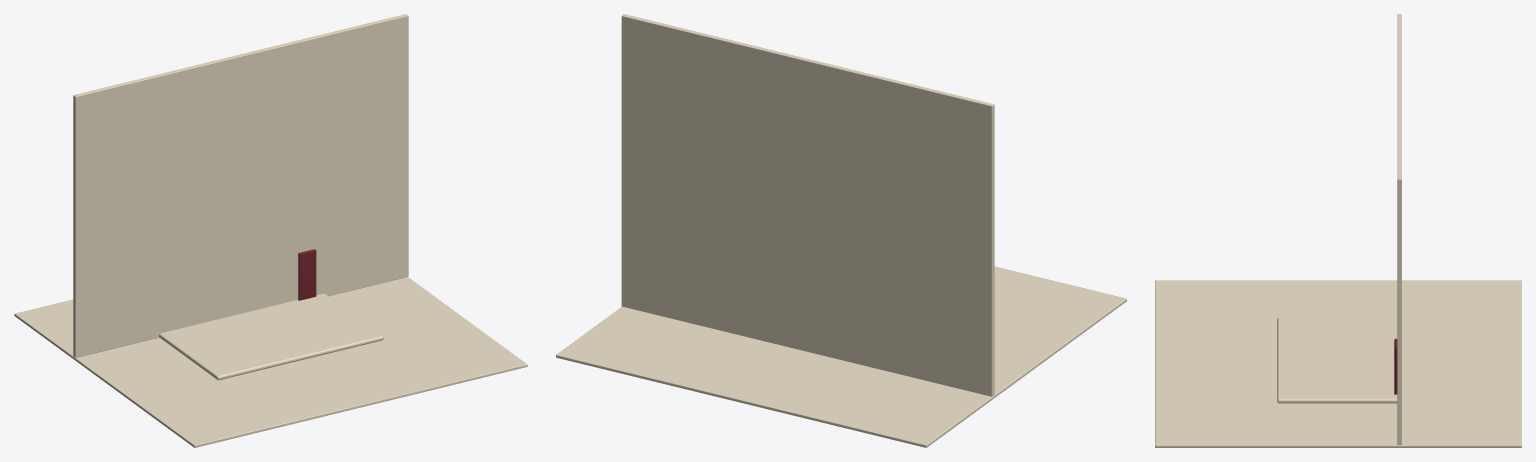
File: market-background.glb
3 renders of one model, left to right at view 1: azimuth 30°, elevation 25°; view 2: azimuth 150°, elevation 25°; view 3: azimuth 270°, elevation 25°, orthographic. The views are drawn at different scales.
Parts seen in each view (by area): view 1: Background wall, Seamless floor, Ivory tabletop, Distant oxblood relief; view 2: Background wall, Seamless floor; view 3: Seamless floor, Ivory tabletop, Background wall.
Part boxes in pixels (bbox=[...]): Background wall: bbox=[73, 14, 408, 357]; Seamless floor: bbox=[14, 277, 527, 447]; Ivory tabletop: bbox=[159, 293, 383, 380]; Distant oxblood relief: bbox=[298, 249, 316, 300]; Background wall: bbox=[621, 14, 994, 396]; Seamless floor: bbox=[556, 266, 1126, 447]; Seamless floor: bbox=[1155, 280, 1521, 447]; Ivory tabletop: bbox=[1277, 317, 1397, 403]; Background wall: bbox=[1397, 14, 1401, 444].
Bounding box in the file's own units: 32 × 24.27 × 30.
